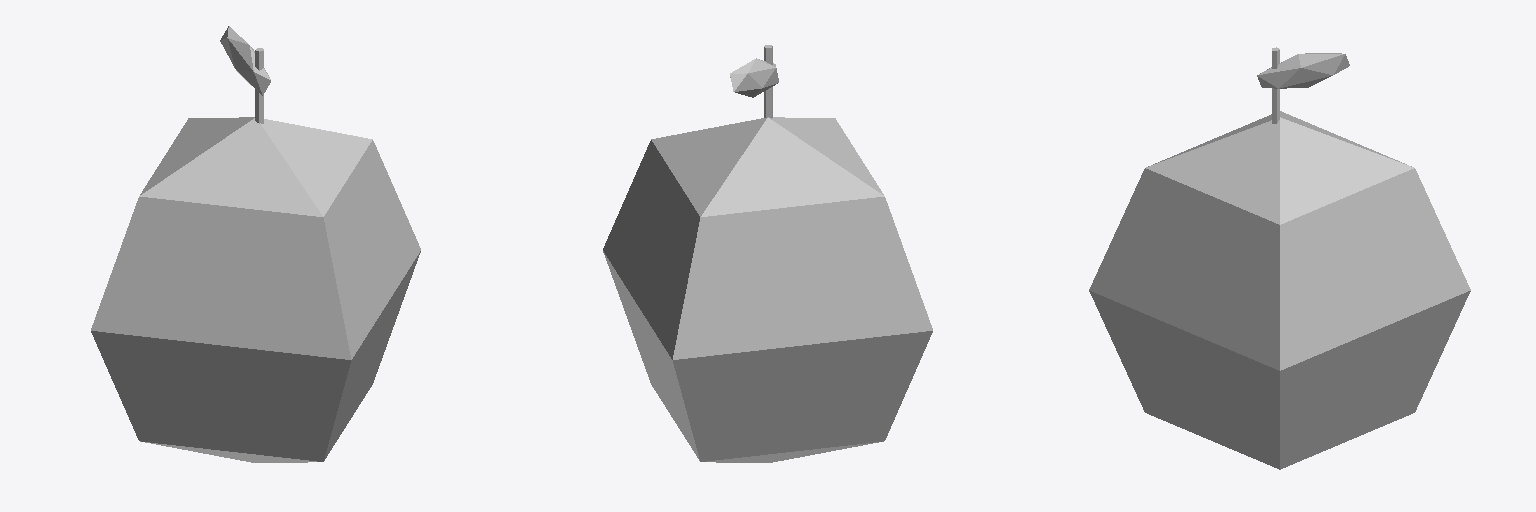
Rendered from 3d_apple.obj.
The picture shows the model from 3 angles: view 1: azimuth 30°, elevation 25°; view 2: azimuth 150°, elevation 25°; view 3: azimuth 270°, elevation 25°; orthographic projection.
Parts seen in each view (by area): view 1: 球; view 2: 球; view 3: 球.
Part boxes in pixels (bbox=[...]): 球: bbox=[91, 26, 420, 462]; 球: bbox=[603, 45, 932, 462]; 球: bbox=[1089, 47, 1470, 469].
Bounding box in the file's own units: 1 × 1.2 × 1.